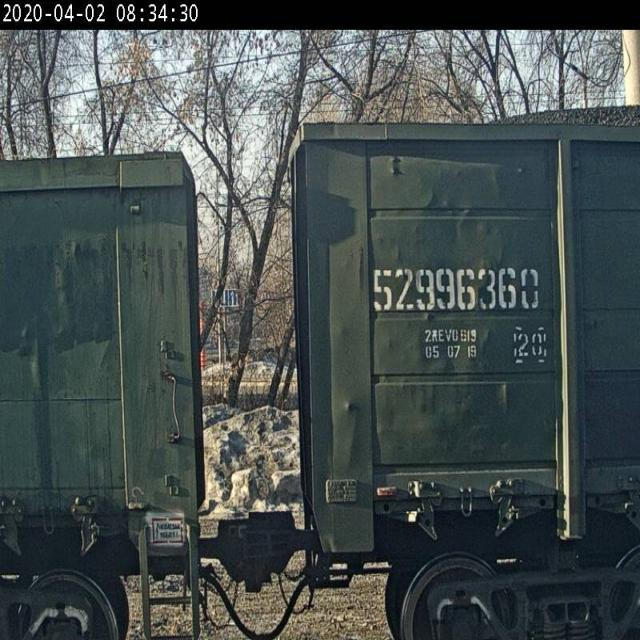gondola: (291, 78, 640, 640), (0, 111, 218, 639)
